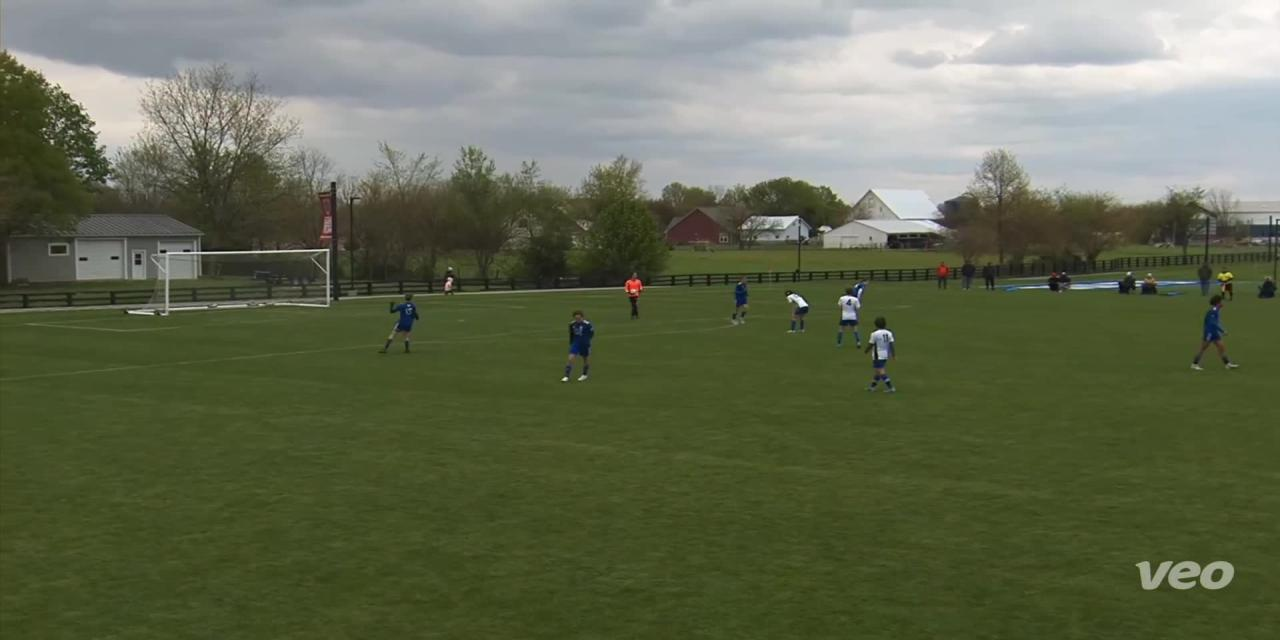goal: (121, 242, 334, 322)
